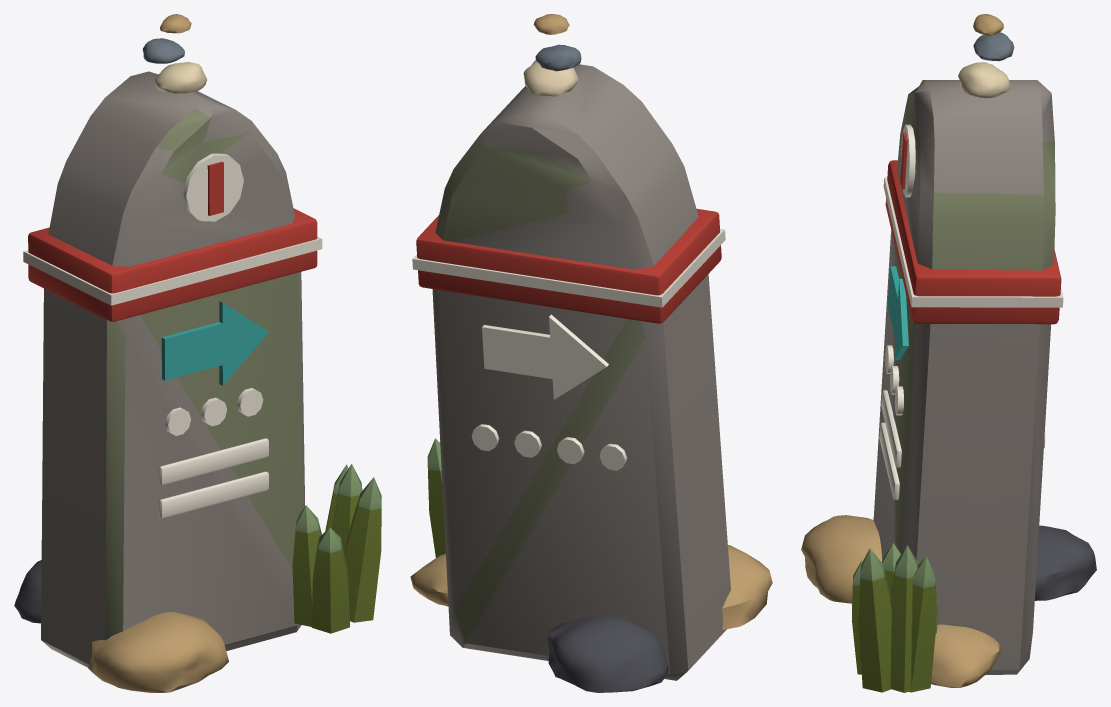
Rendered from deco_milestone.fbx.
3 views of the same model, side by side, from view 1: azimuth 30°, elevation 25°; view 2: azimuth 150°, elevation 25°; view 3: azimuth 270°, elevation 25° (orthographic). The views are drawn at different scales.
Parts seen in each view (by area): view 1: Milestone_Stone, Milestone_Glyphs; view 2: Milestone_Stone, Milestone_Glyphs; view 3: Milestone_Stone, Milestone_Glyphs.
Boxes of the visible parts, bbox=[...] form: Milestone_Stone: bbox=[14, 14, 381, 692]; Milestone_Glyphs: bbox=[159, 153, 269, 518]; Milestone_Stone: bbox=[410, 14, 772, 692]; Milestone_Glyphs: bbox=[471, 314, 626, 470]; Milestone_Stone: bbox=[801, 14, 1096, 692]; Milestone_Glyphs: bbox=[879, 124, 1045, 500].
Size of the model in its own units: 74.65 by 151 by 64.99.
